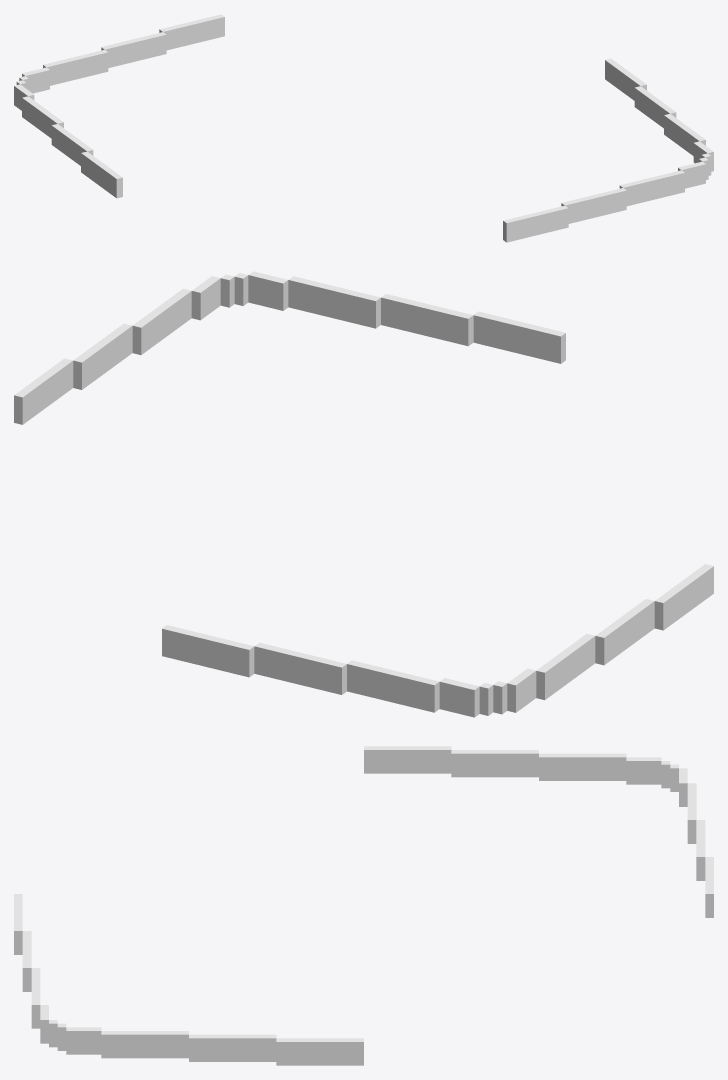
File: tile_box.obj
3 renders of one model, top to bottom at view 1: azimuth 30°, elevation 25°; view 2: azimuth 150°, elevation 25°; view 3: azimuth 270°, elevation 25°, orthographic. The views are drawn at different scales.
Bounding box in the file's own units: 8 × 0.3 × 8.
Materials: 1 (1 with a texture image).
